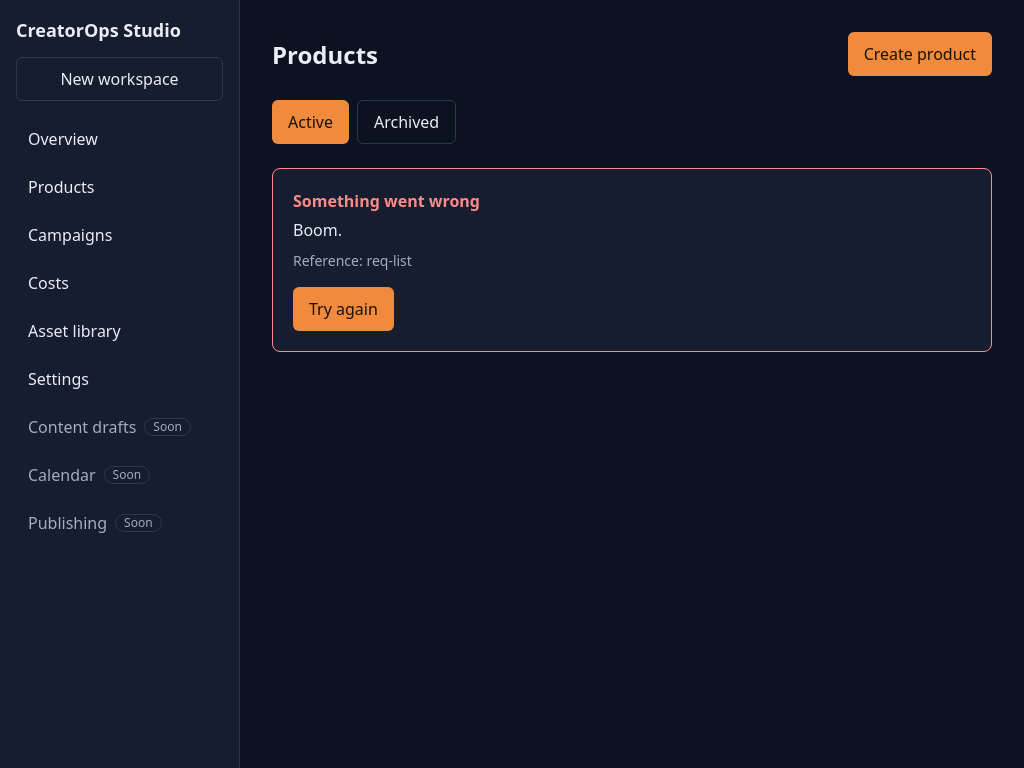
Test case: ProductsPage › shows an error with the request reference, and Try again refetches
The width and height of the screenshot is (1024, 768).
expect the text "Boom." is shown: met, box [293,219,342,241]
expect the text "Reference: req-list" is shown: met, box [293,251,412,270]
Click the button "Try again" at (343, 309), box [293,287,394,331]
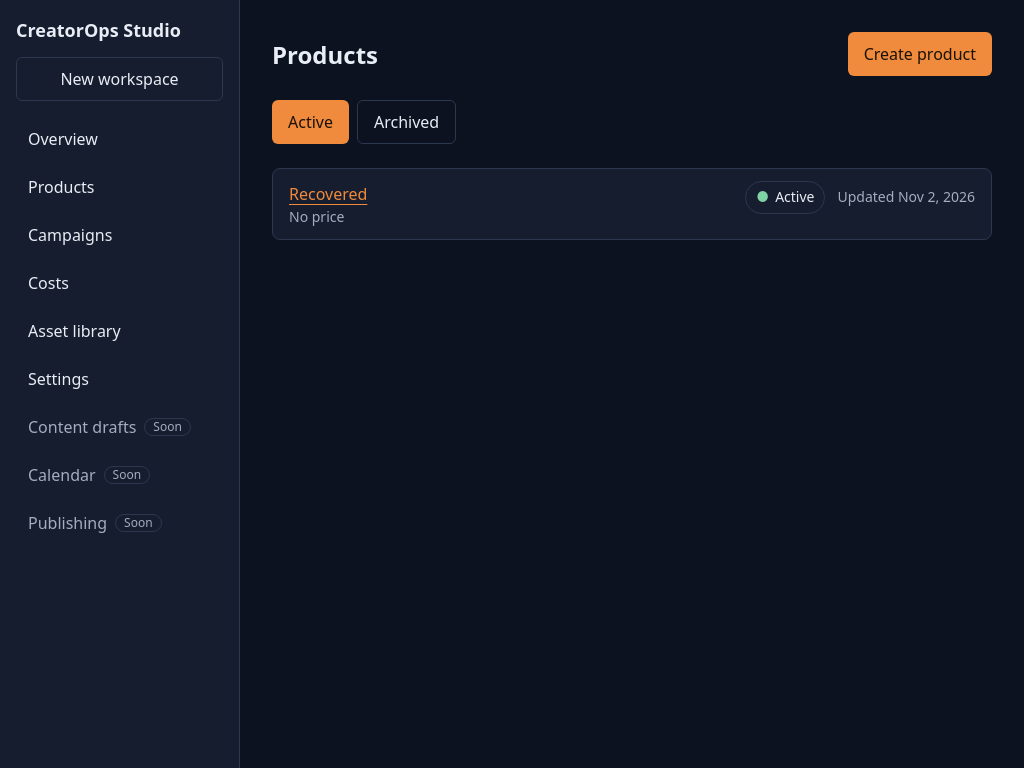
expect the link "Recovered" is shown: met, box [289,183,367,205]
expect the message "Something went wrong Boom. Reference: req-list Try again" is gone: met
